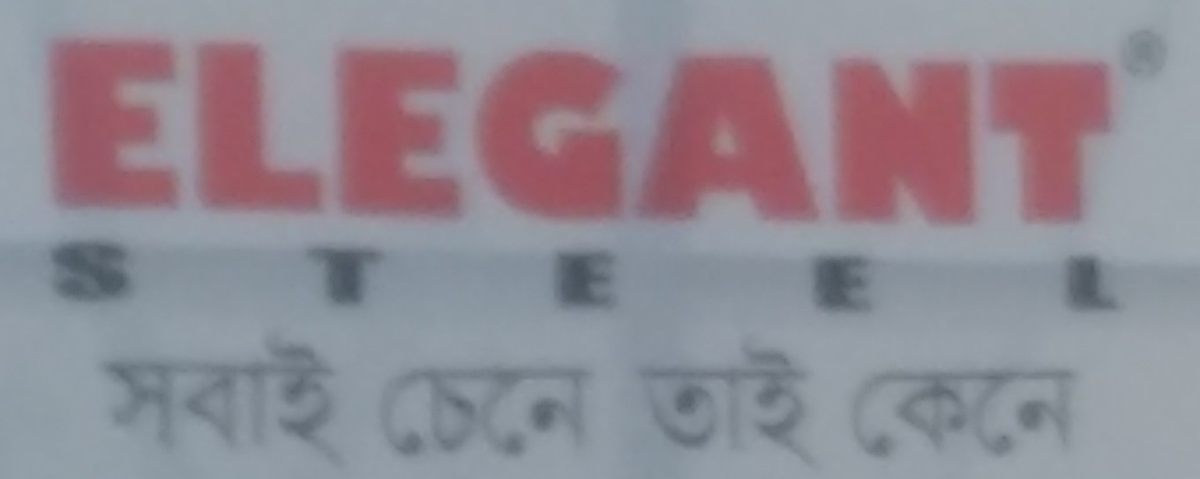text: (49, 33, 64, 232), (65, 33, 80, 232), (81, 33, 96, 232), (97, 33, 112, 232), (113, 33, 128, 232), (129, 33, 144, 232), (145, 33, 160, 232), (161, 33, 176, 232), (177, 33, 192, 232), (193, 33, 208, 232), (209, 33, 224, 232), (225, 33, 240, 232), (241, 33, 256, 232), (257, 33, 272, 232), (273, 33, 288, 232), (289, 33, 304, 232), (305, 33, 320, 232), (321, 33, 336, 232), (337, 33, 352, 232), (353, 33, 368, 232), (369, 33, 384, 232), (385, 33, 400, 232), (401, 33, 416, 232), (417, 33, 432, 232), (433, 33, 448, 232), (449, 33, 464, 232), (465, 33, 480, 232), (481, 33, 496, 232), (497, 33, 512, 232), (513, 33, 528, 232), (529, 33, 544, 232), (545, 33, 560, 232), (561, 33, 576, 232), (577, 33, 592, 232), (593, 33, 608, 232), (609, 33, 624, 232), (625, 33, 640, 232), (641, 33, 656, 232), (657, 33, 672, 232), (673, 33, 688, 232), (689, 33, 704, 232), (705, 33, 720, 232), (721, 33, 736, 232), (737, 33, 752, 232), (753, 33, 768, 232), (769, 33, 784, 232), (785, 33, 800, 232), (801, 33, 816, 232), (817, 33, 832, 232), (833, 33, 848, 232), (849, 33, 864, 232), (865, 33, 880, 232), (881, 33, 896, 232), (897, 33, 912, 232), (913, 33, 928, 232), (929, 33, 944, 232), (945, 33, 960, 232), (961, 33, 976, 232), (977, 33, 992, 232), (993, 33, 1008, 232), (1009, 33, 1024, 232), (1025, 33, 1040, 232), (1041, 33, 1056, 232), (1057, 33, 1072, 232), (1073, 33, 1088, 232), (1089, 33, 1104, 232), (1105, 33, 1119, 232), (641, 338, 656, 472), (657, 338, 672, 472), (673, 338, 688, 472), (689, 338, 704, 472), (705, 338, 720, 472), (721, 338, 736, 472), (737, 338, 752, 472), (753, 338, 768, 472), (769, 338, 784, 472), (785, 338, 800, 472), (801, 338, 816, 472), (113, 337, 128, 470), (129, 337, 144, 470), (145, 337, 160, 470), (161, 337, 176, 470), (177, 337, 192, 470), (193, 337, 208, 470), (209, 337, 224, 470), (225, 337, 240, 470), (241, 337, 256, 470), (257, 337, 272, 470), (273, 337, 288, 470), (289, 337, 304, 470), (305, 337, 320, 470), (321, 337, 336, 470), (337, 337, 352, 470), (817, 338, 829, 472), (385, 360, 400, 463), (401, 360, 416, 463), (417, 360, 432, 463), (433, 360, 448, 463), (449, 360, 464, 463), (465, 360, 480, 463), (481, 360, 496, 463), (497, 360, 512, 463), (513, 360, 528, 463), (529, 360, 544, 463), (545, 360, 560, 463), (561, 360, 576, 463), (577, 360, 592, 463), (849, 363, 864, 463), (865, 363, 880, 463), (881, 363, 896, 463), (897, 363, 912, 463), (913, 363, 928, 463), (929, 363, 944, 463), (945, 363, 960, 463), (961, 363, 976, 463), (977, 363, 992, 463), (993, 363, 1008, 463), (1009, 363, 1024, 463), (1025, 363, 1040, 463), (1041, 363, 1056, 463), (1057, 363, 1072, 463), (629, 338, 640, 472), (371, 360, 384, 463), (49, 236, 64, 319), (65, 236, 80, 319), (81, 236, 96, 319), (97, 236, 112, 319), (113, 236, 128, 319), (129, 236, 144, 319), (145, 236, 160, 319), (161, 236, 176, 319), (177, 236, 192, 319), (193, 236, 208, 319), (209, 236, 224, 319), (225, 236, 240, 319), (241, 236, 256, 319), (257, 236, 272, 319), (273, 236, 288, 319), (289, 236, 304, 319), (305, 236, 320, 319), (321, 236, 336, 319), (337, 236, 352, 319), (353, 236, 368, 319), (369, 236, 384, 319), (385, 236, 400, 319), (401, 236, 416, 319), (417, 236, 432, 319), (433, 236, 448, 319), (449, 236, 464, 319), (465, 236, 480, 319), (481, 236, 496, 319), (497, 236, 512, 319), (513, 236, 528, 319), (529, 236, 544, 319), (545, 236, 560, 319), (561, 236, 576, 319), (577, 236, 592, 319), (593, 236, 608, 319), (609, 236, 624, 319), (625, 236, 640, 319), (641, 236, 656, 319), (657, 236, 672, 319), (673, 236, 688, 319), (689, 236, 704, 319), (705, 236, 720, 319), (721, 236, 736, 319), (737, 236, 752, 319), (753, 236, 768, 319), (769, 236, 784, 319), (785, 236, 800, 319), (801, 236, 816, 319), (817, 236, 832, 319), (833, 236, 848, 319), (849, 236, 864, 319), (865, 236, 880, 319), (881, 236, 896, 319), (897, 236, 912, 319), (913, 236, 928, 319), (929, 236, 944, 319), (945, 236, 960, 319), (961, 236, 976, 319), (977, 236, 992, 319), (993, 236, 1008, 319), (1009, 236, 1024, 319), (1025, 236, 1040, 319), (1041, 236, 1056, 319), (1057, 236, 1072, 319), (1073, 236, 1088, 319), (1089, 236, 1104, 319), (1105, 236, 1120, 319), (103, 337, 112, 470), (1121, 236, 1133, 319), (593, 360, 598, 463), (1073, 363, 1078, 463), (1137, 38, 1152, 69), (46, 33, 48, 232), (845, 363, 848, 463), (353, 337, 355, 470), (1153, 38, 1160, 69), (1133, 38, 1136, 69)
